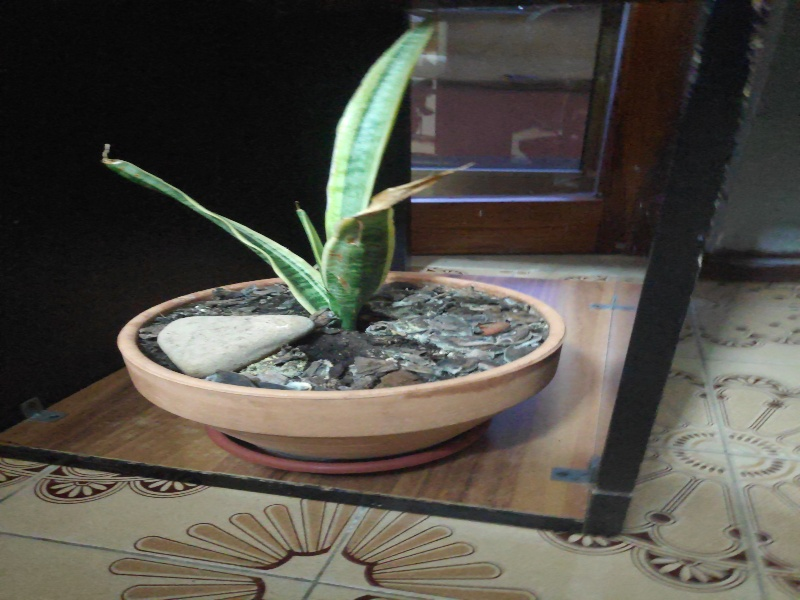plant: (95, 2, 571, 486), (93, 1, 569, 484)
